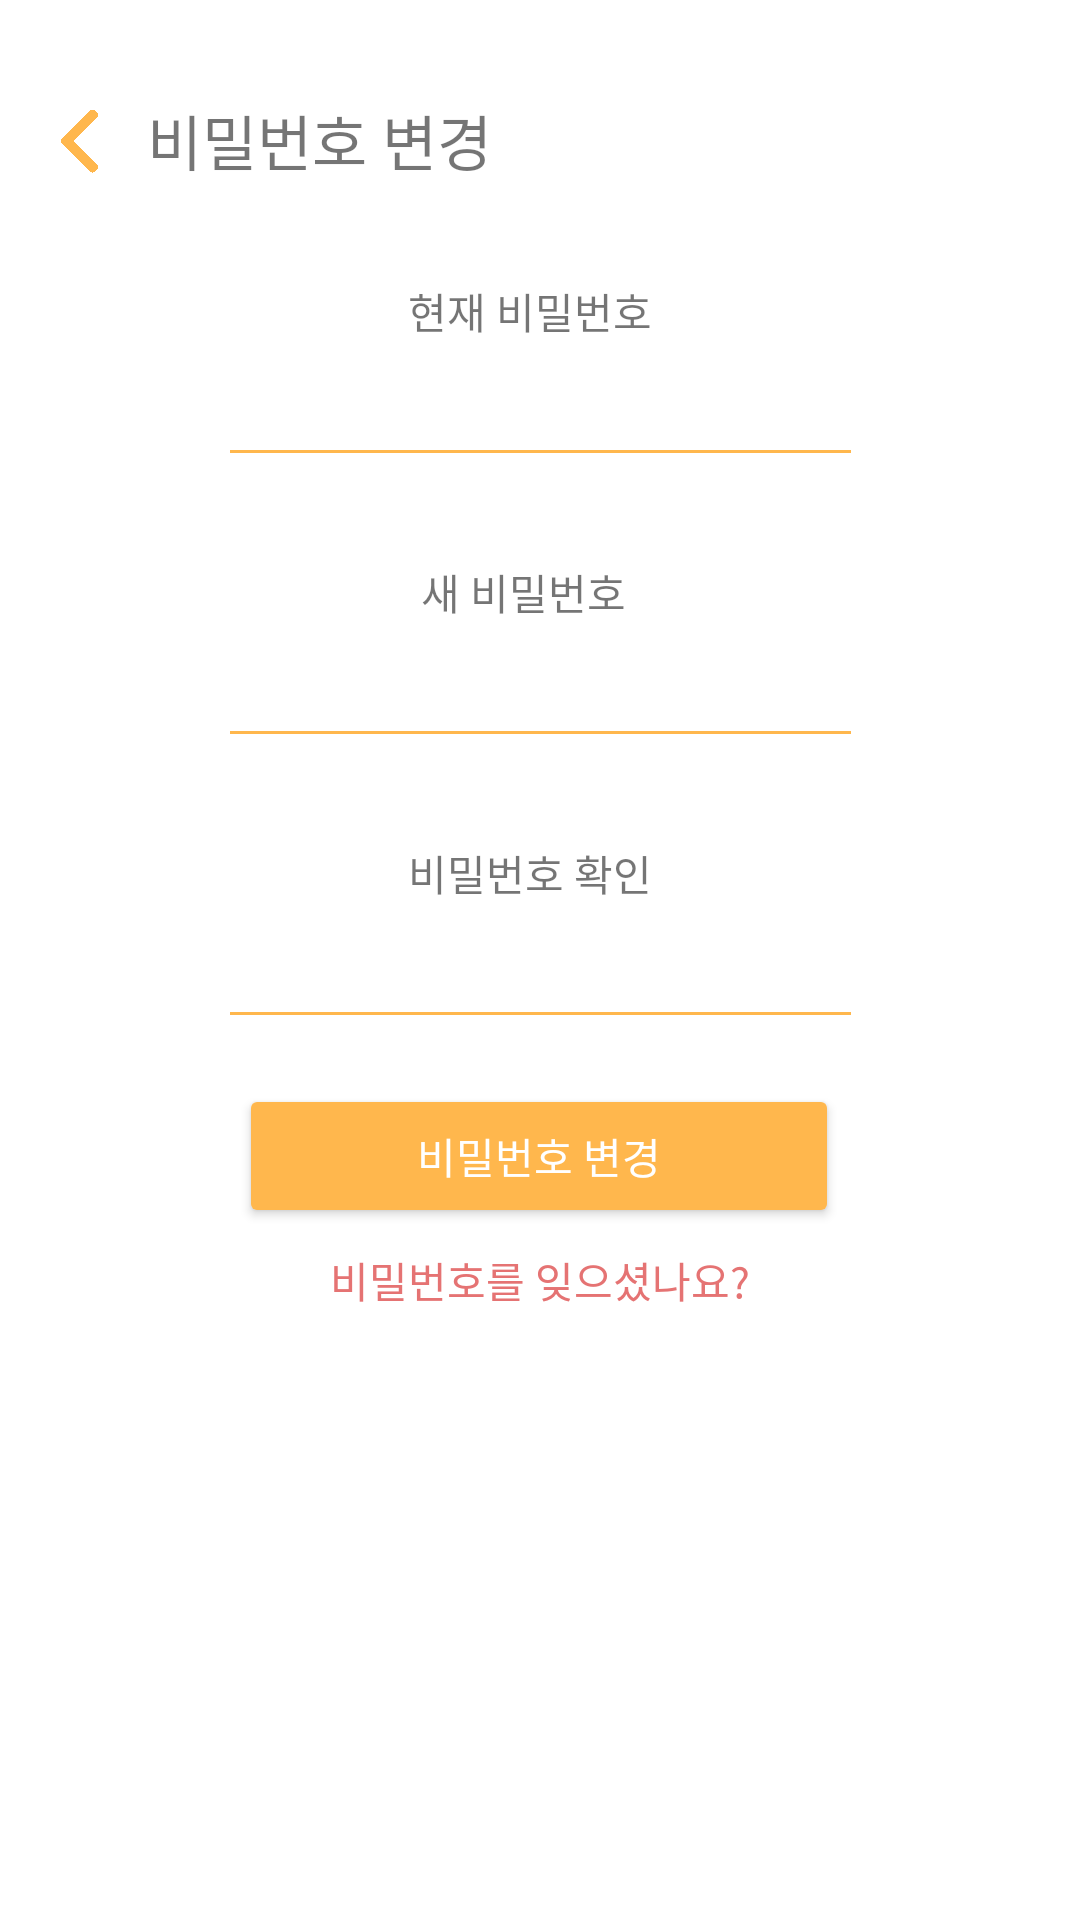

Icons on this 1080×1920 Android screen, each with the point to tap as (x=x, y=y):
leftbtn: (x=79, y=141)
